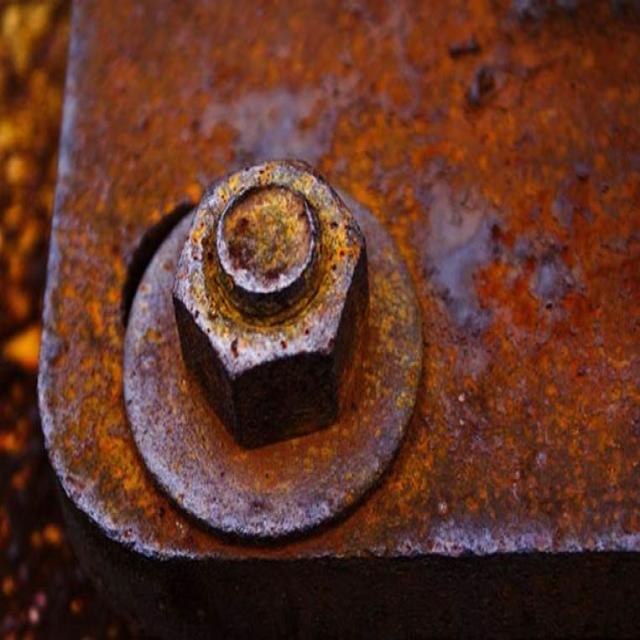bolt nut: (170, 152, 368, 450)
